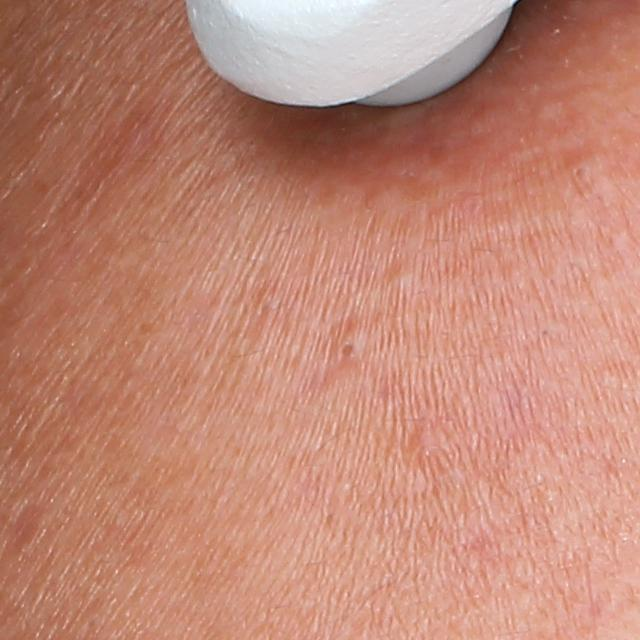comedo: (407, 424, 450, 467), (331, 323, 369, 366), (563, 149, 599, 190), (382, 263, 417, 290)
